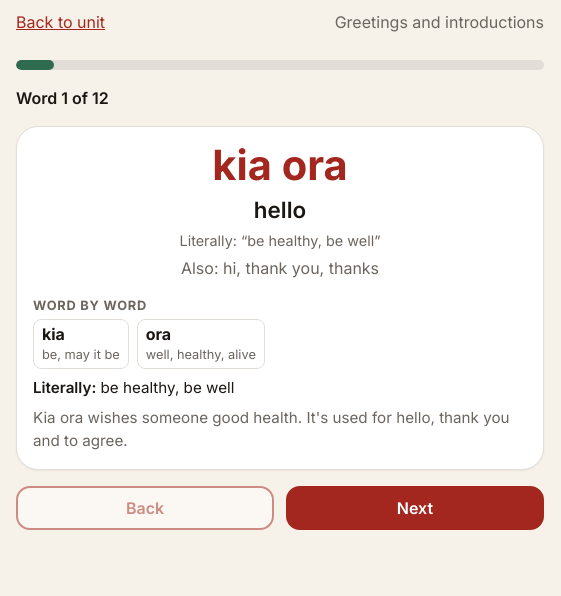
Test: Learn deck (AC2) › goes back and stops at the first card
Expected: the button "Back" is disabled, [16,486,274,530]
Click the button "Next" at (415, 508), box [286,486,544,530]
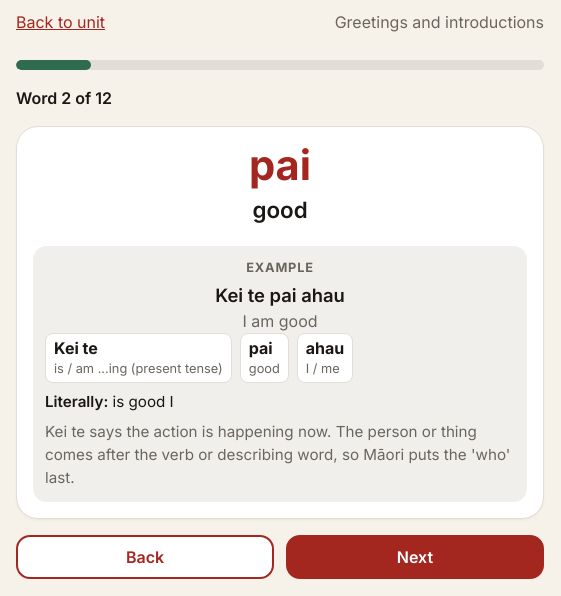
Now the text "Word 2 of 12" is shown, box [16,88,112,108]
Click the button "Back" at (145, 557), box [16,535,274,579]
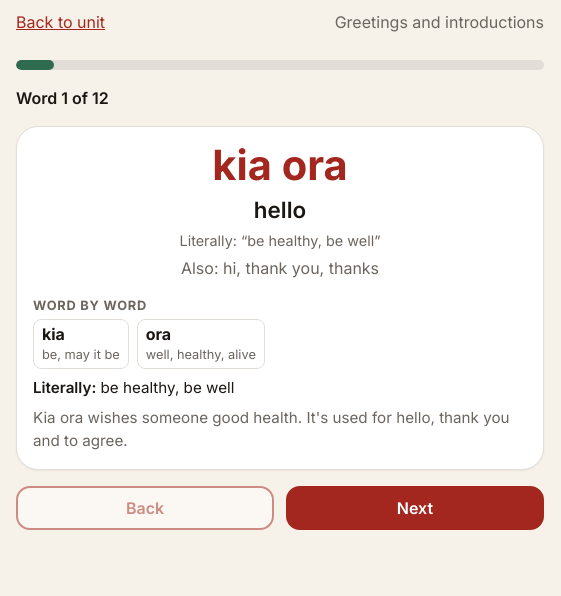
Now the text "Word 1 of 12" is shown, box [16,88,109,108]
